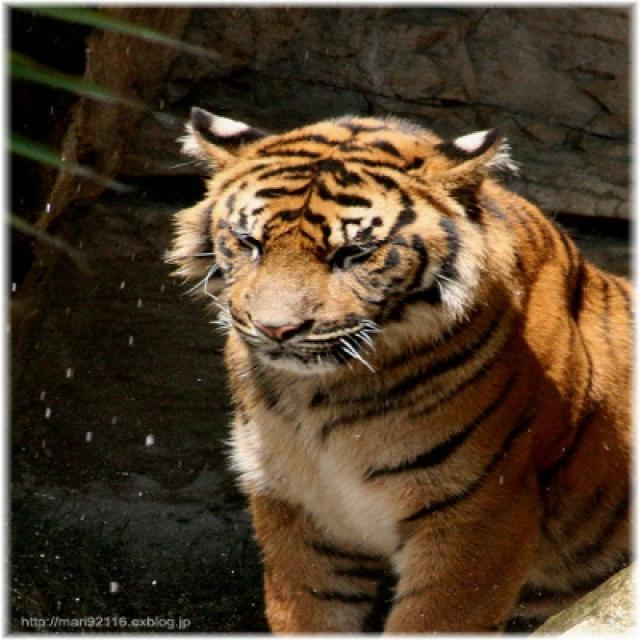Tiger: (165, 109, 632, 630)
